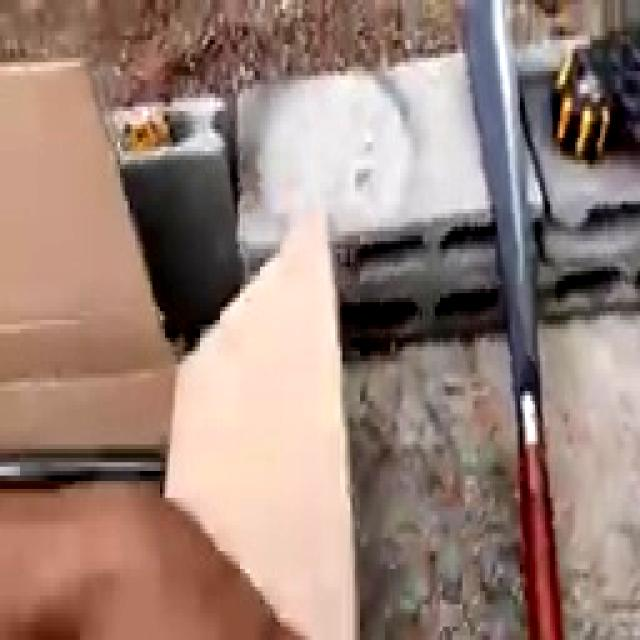eto: (465, 0, 563, 638)
